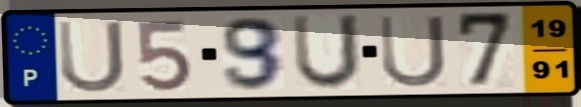5: (133, 16, 196, 93)
7: (454, 9, 517, 91)
9: (218, 14, 288, 93)
U: (288, 12, 364, 93), (375, 13, 450, 90), (54, 18, 128, 95)
